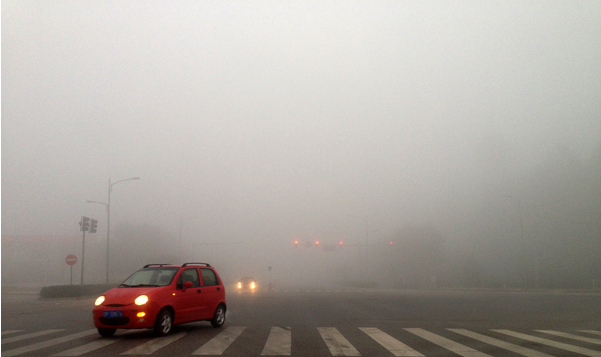car: (91, 262, 226, 336), (237, 276, 258, 291)
